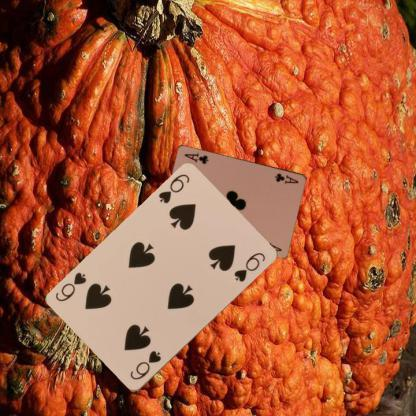6s: (127, 348, 162, 382), (156, 172, 191, 206)
Ac: (272, 170, 300, 185)
